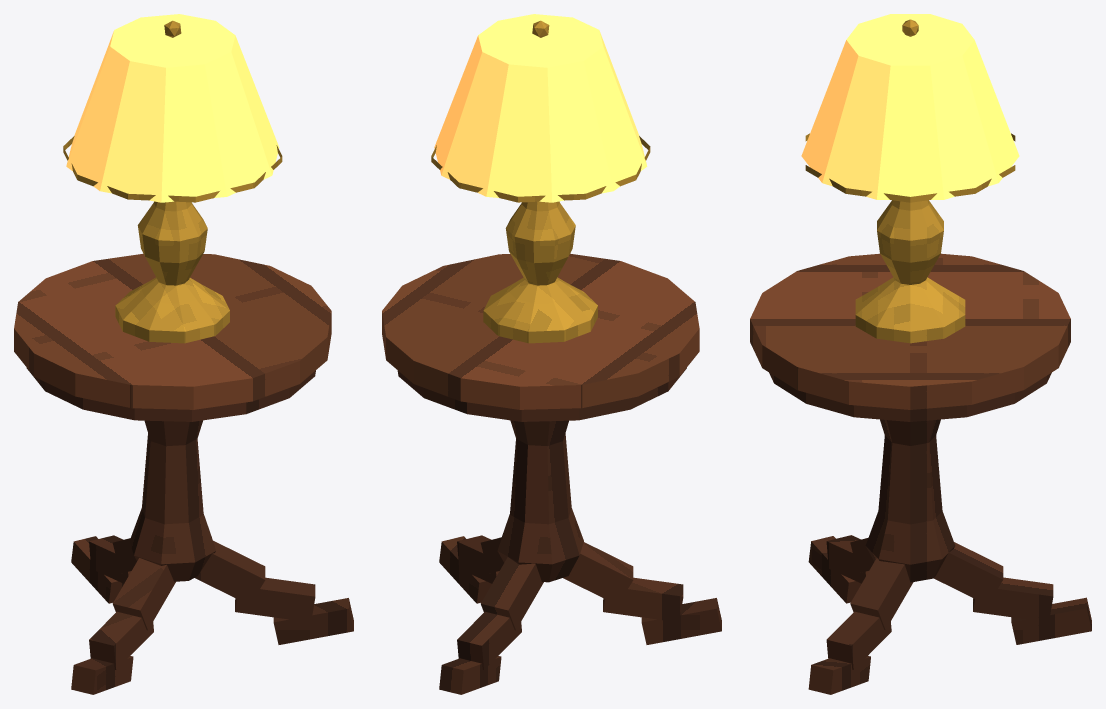
File: table_lamp.glb
The picture shows the model from 3 angles, left to right: view 1: azimuth 30°, elevation 25°; view 2: azimuth 150°, elevation 25°; view 3: azimuth 270°, elevation 25°; orthographic projection.
Parts seen in each view (by area): view 1: TableLamp; view 2: TableLamp; view 3: TableLamp.
Part boxes in pixels (x1=…): TableLamp: x1=14, y1=14, x2=353, y2=694; TableLamp: x1=382, y1=14, x2=721, y2=694; TableLamp: x1=750, y1=14, x2=1091, y2=694.
Bounding box in the file's own units: 0.5098 × 1.07 × 0.5328.
4 materials, 3 textured.
